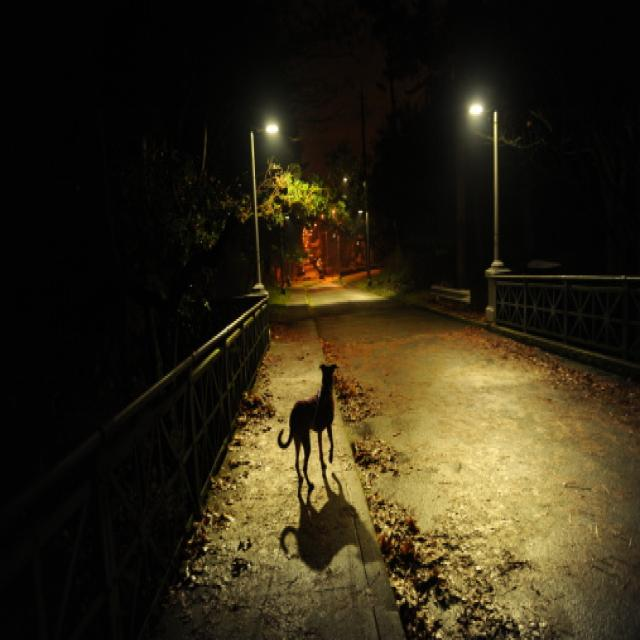Dog: (273, 366, 371, 480)
